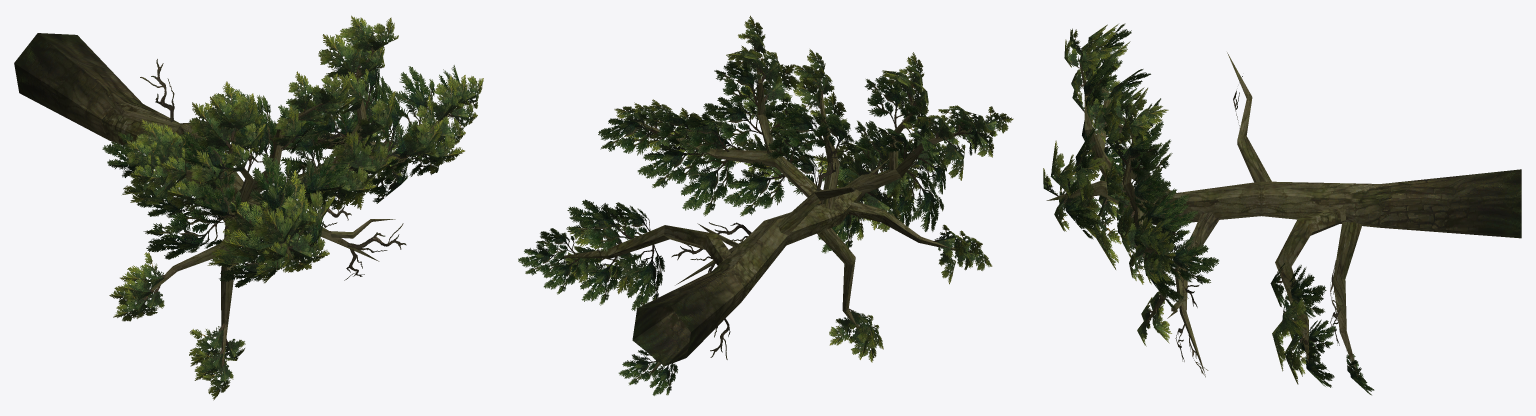
Rendered from dongfang_yewai_359_shu01.obj.
3 views of the same model, side by side, from view 1: azimuth 30°, elevation 25°; view 2: azimuth 150°, elevation 25°; view 3: azimuth 270°, elevation 25° (orthographic). The views are drawn at different scales.
Parts seen in each view (by area): view 1: dongfang_yewai_359_shu01; view 2: dongfang_yewai_359_shu01; view 3: dongfang_yewai_359_shu01.
Boxes of the visible parts, x1,y1,x2,y2 form: dongfang_yewai_359_shu01: (14,15,483,400); dongfang_yewai_359_shu01: (518,15,1013,395); dongfang_yewai_359_shu01: (1043,23,1521,395).
Size of the model in its own units: 464 by 357 by 472.
Materials: 2 (2 with a texture image).
